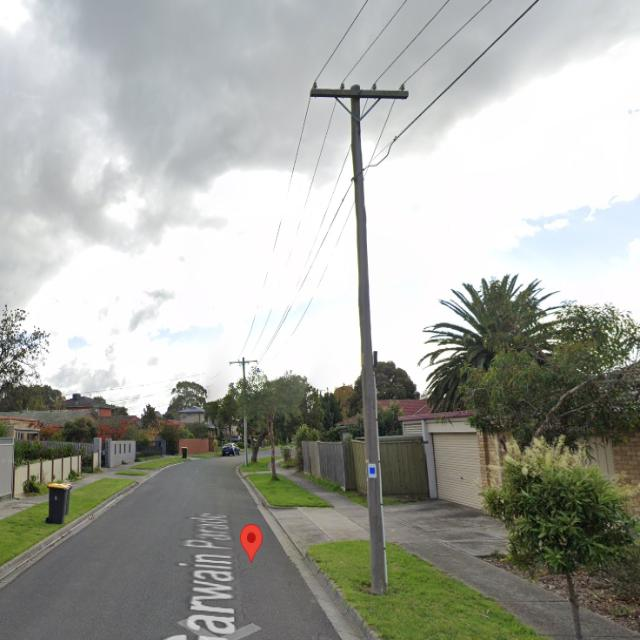crossarm: (310, 86, 408, 101), (229, 360, 258, 364)
timber-pole: (349, 83, 390, 597), (242, 357, 248, 467)
